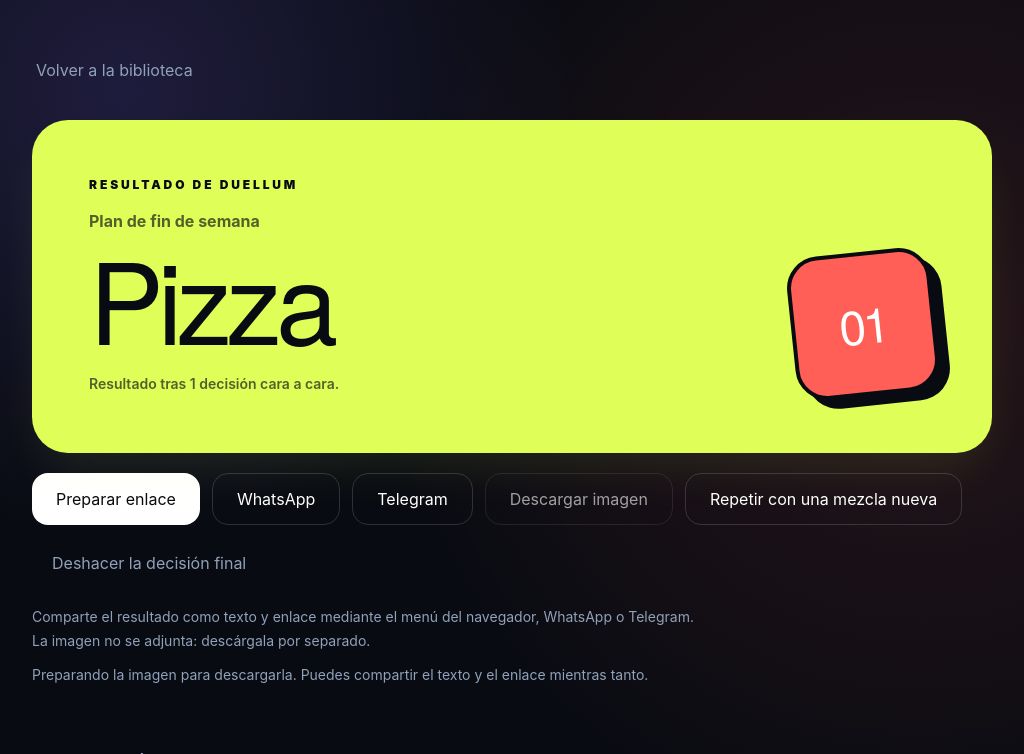
Test: ResultScreen sharing controls › closes a reserved direct-service popup when minting fails
The image size is (1024, 754).
Click the button "WhatsApp" at x=276, y=499, box x1=212 y1=473 x2=340 y2=525
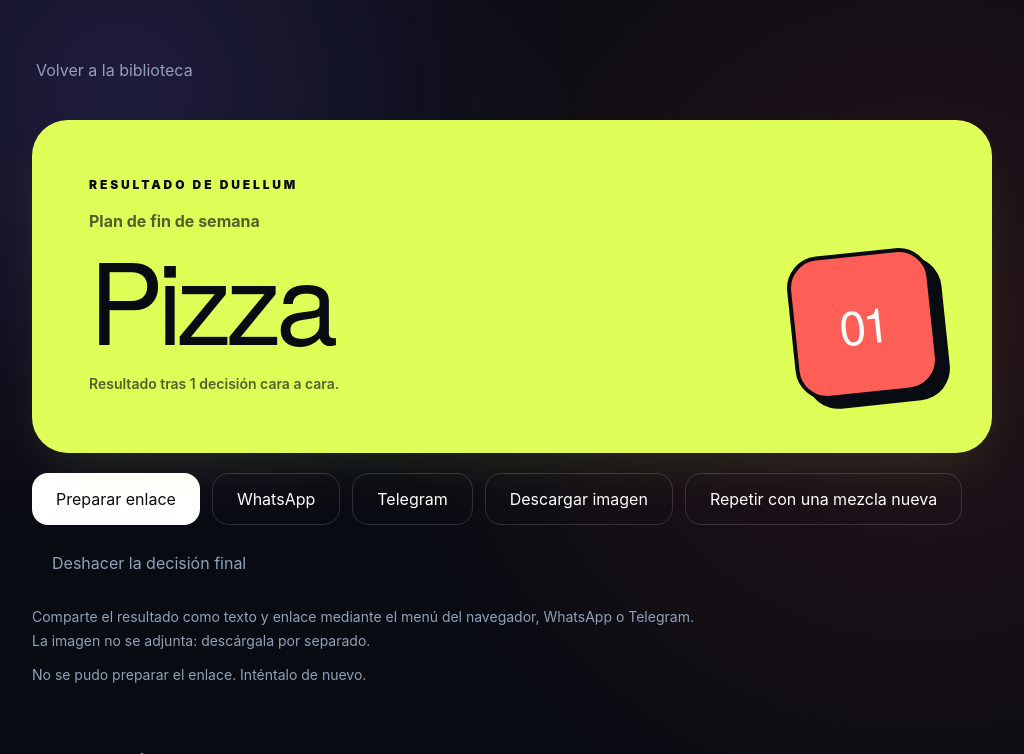
Result: the message shows "No se pudo preparar el enlace" at x1=32 y1=666 x2=366 y2=683
